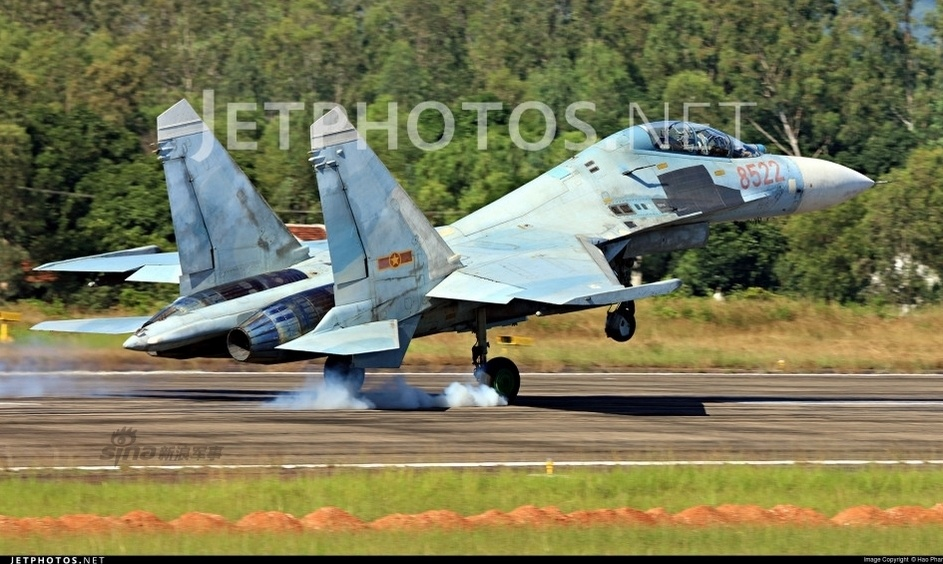airplane: (25, 85, 883, 394)
